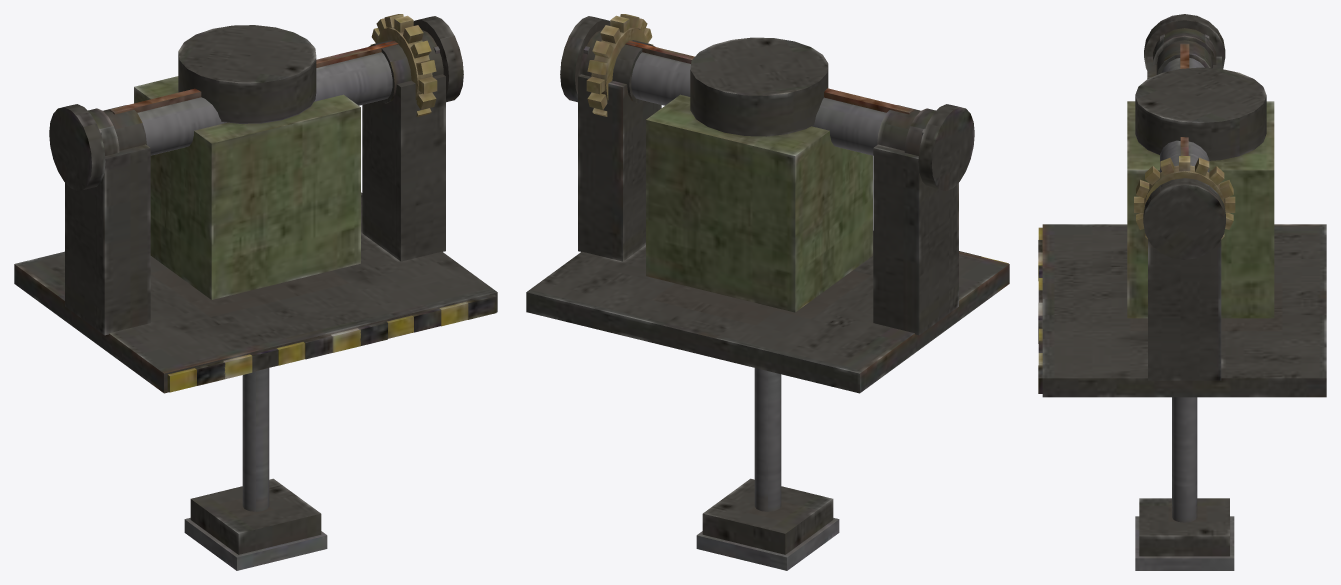
Rendered from feInlinePress.glb.
The picture shows the model from 3 angles, left to right: view 1: azimuth 30°, elevation 25°; view 2: azimuth 150°, elevation 25°; view 3: azimuth 270°, elevation 25°; orthographic projection. The views are drawn at different scales.
Parts seen in each view (by area): view 1: feInlinePress_Base, FeSpin_DriveShaft, FePiston_InlineRam; view 2: feInlinePress_Base, FeSpin_DriveShaft, FePiston_InlineRam; view 3: feInlinePress_Base, FeSpin_DriveShaft, FePiston_InlineRam.
Part boxes in pixels (x1,y1,x2,y2): feInlinePress_Base: (14, 25, 497, 393); FeSpin_DriveShaft: (49, 14, 463, 190); FePiston_InlineRam: (184, 368, 327, 570); feInlinePress_Base: (526, 37, 1009, 393); FeSpin_DriveShaft: (560, 14, 974, 190); FePiston_InlineRam: (696, 368, 839, 570); feInlinePress_Base: (1038, 40, 1326, 397); FeSpin_DriveShaft: (1134, 14, 1235, 259); FePiston_InlineRam: (1135, 397, 1234, 570).
Bounding box in the file's own units: 1 × 1.25 × 0.7121.
1 material, 1 textured.
